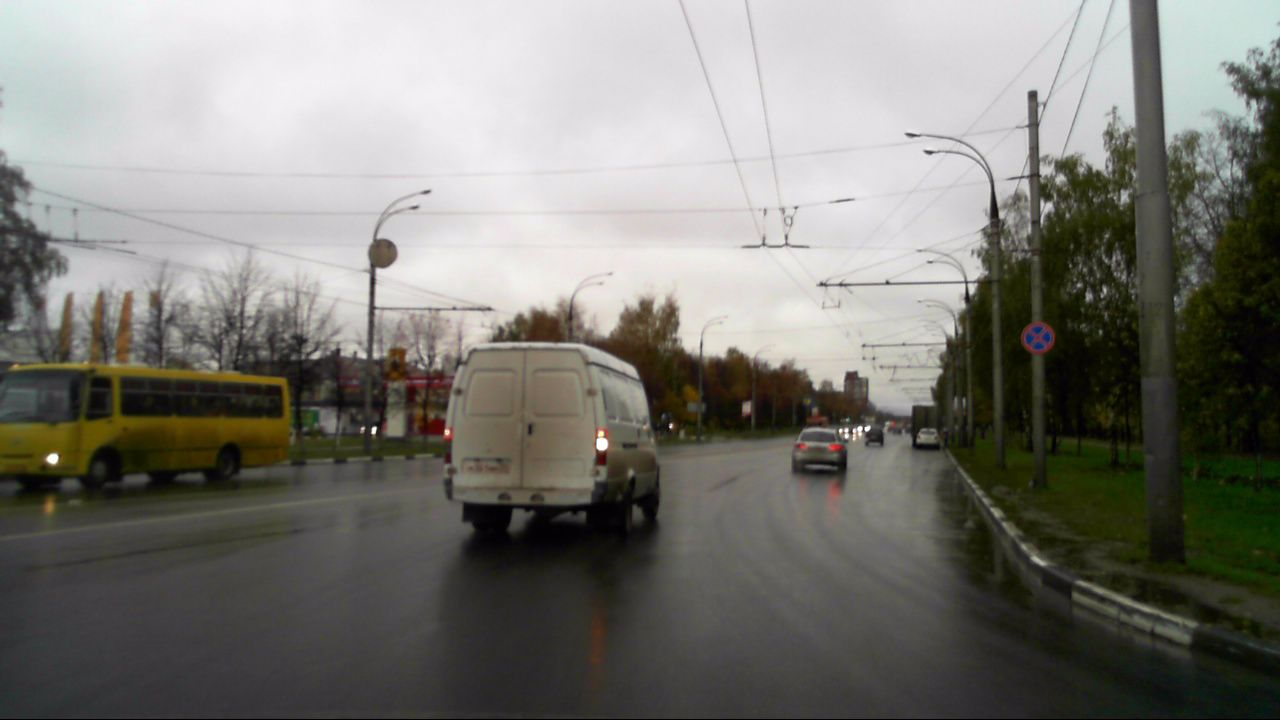No Parking: (1017, 320, 1053, 354)
